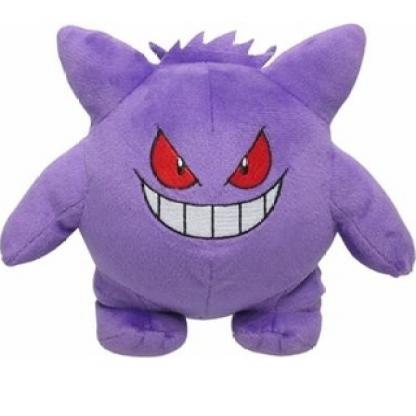Gengar: (1, 19, 416, 373)
